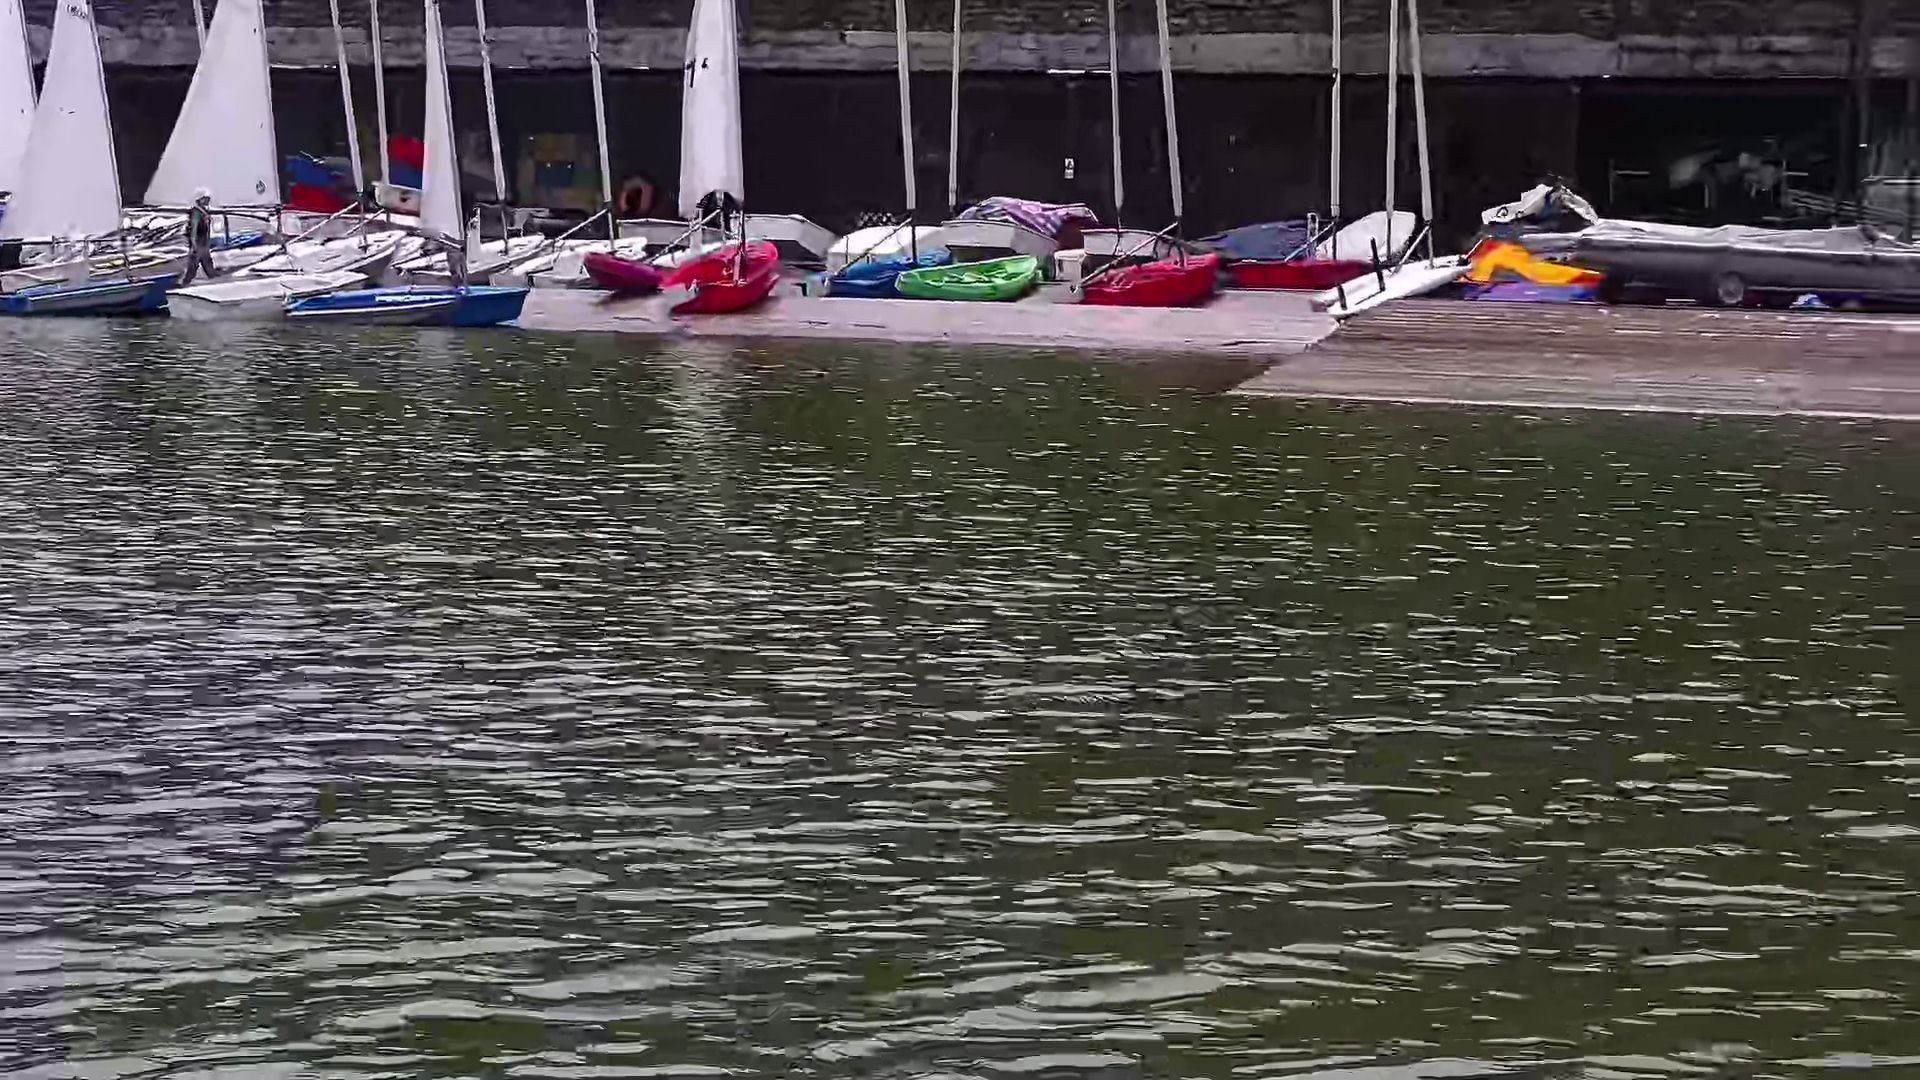harbor: (15, 189, 1916, 407)
